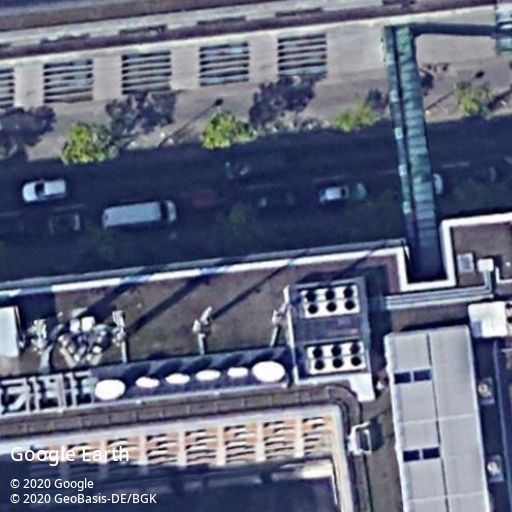Chiller: (307, 339, 369, 375), (300, 284, 361, 318)
